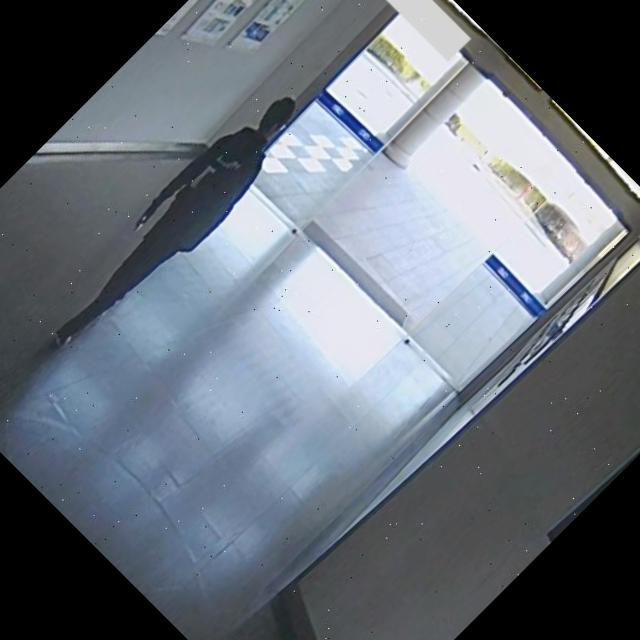person: (12, 66, 328, 382)
